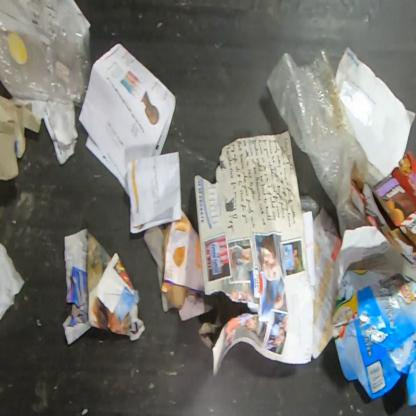cardboard: (333, 270, 415, 408), (350, 149, 415, 267)
rigid_plastic: (0, 0, 91, 110)
soft_plastic: (265, 49, 386, 238)
